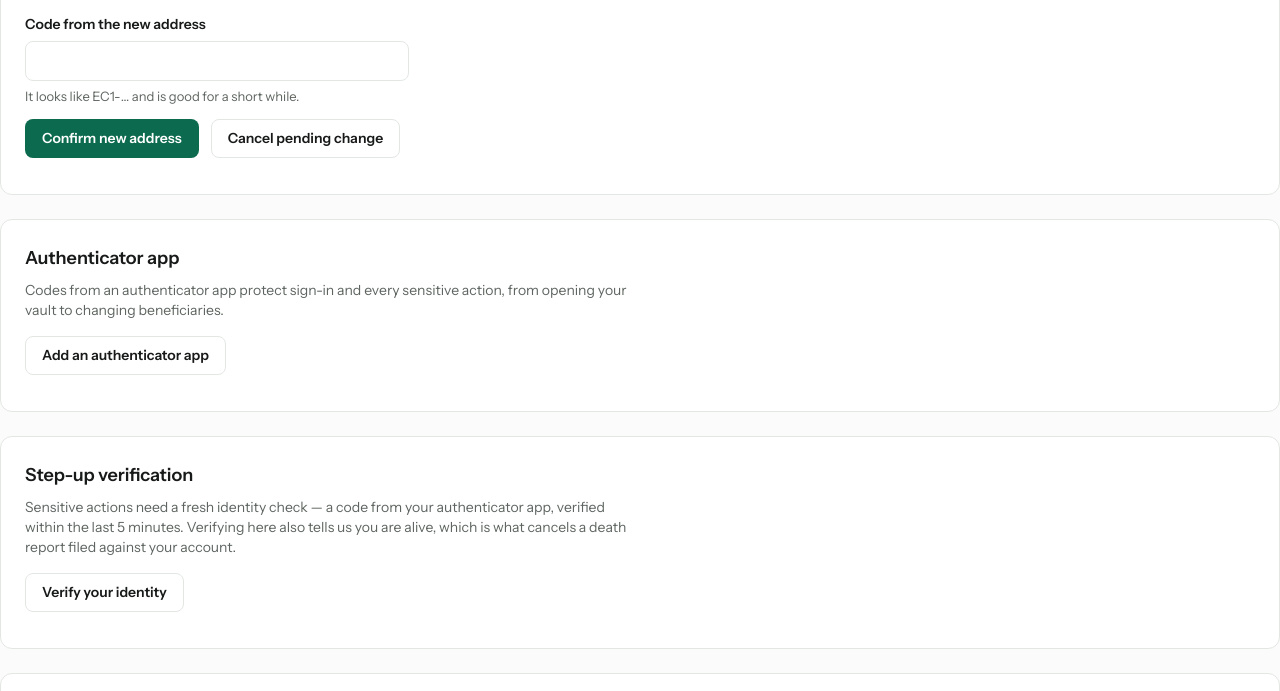
Test case: SecurityPanel › shows the otpauth URI as copyable text after enrollment begins
(page scrolled)
What coordinates should you click on to do the following:
click the button "Add an authenticator app"
I would click on:
 (126, 355)
Its box is [25, 336, 226, 374].
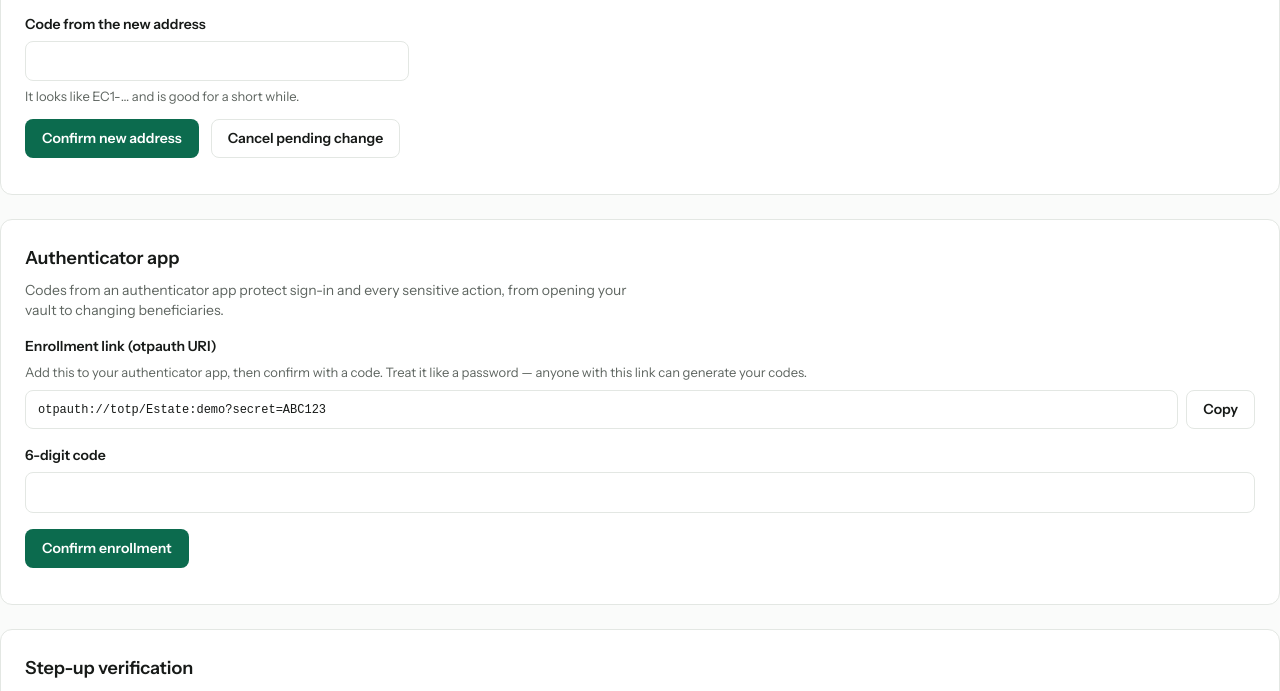
Result: the field labelled "Enrollment link (otpauth URI)" holds "otpauth://totp/Estate:demo?secret=ABC123" at [25, 390, 1178, 429]
Result: the button "Copy" is shown at [1186, 390, 1255, 429]
Result: the field labelled "6-digit code" is shown at [25, 472, 1255, 512]
